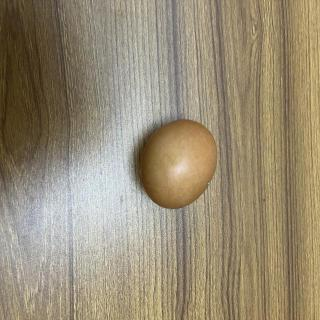Telur: (137, 114, 226, 214)
